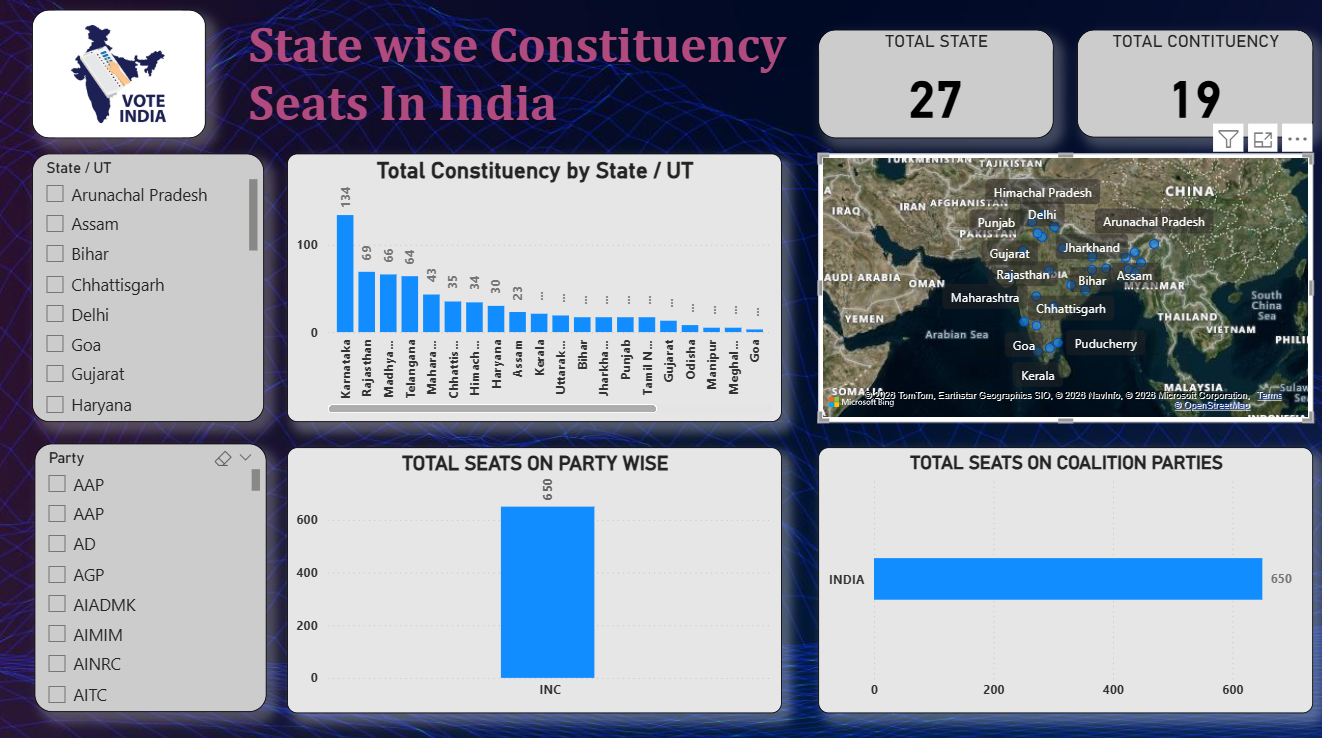

The page's visual inventory and layout, read from the dashboard file:
{"tool":"powerbi","page":{"name":"Page 1","canvas":[1280,720],"ordinal":0},"visuals":[{"type":"card","title":"TOTAL STATE","fields":{"Values":["Count(Data.State / UT)"]},"box":[792.6,32.6,226.8,105],"z":0},{"type":"card","title":"TOTAL CONTITUENCY","fields":{"Values":["Count(Data.Total Constituency)"]},"box":[1042.4,32.6,228,103.8],"z":1000},{"type":"columnChart","title":"Total Constituency by State / UT","fields":{"Category":["Data.State / UT"],"Y":["Sum(Data.Total Constituency)"]},"box":[279.9,152.3,477.5,259.3],"z":2000},{"type":"map","fields":{"Category":["Data.State / UT"]},"box":[793.1,152.3,477.5,259.3],"z":3000},{"type":"columnChart","title":"TOTAL SEATS ON PARTY WISE","fields":{"Y":["Sum(Data.Total Constituency)"],"Category":["Data.Party"]},"box":[279.9,435,477.5,256.6],"z":4000},{"type":"clusteredBarChart","title":"TOTAL SEATS ON COALITION PARTIES","fields":{"Category":["Data.NDA / INDI"],"Y":["Sum(Data.Total Constituency)"]},"box":[793.1,435,477.5,256.6],"z":5000},{"type":"slicer","fields":{"Values":["Data.State / UT"]},"box":[34.3,152.3,223.7,259.3],"z":6000},{"type":"slicer","fields":{"Values":["Data.Party"]},"box":[35.7,432.2,223.7,259.3],"z":7000},{"type":"textbox","box":[237.4,13.7,544.8,138.6],"z":8000},{"type":"image","box":[33.8,13.3,167.7,124.3],"z":9000}]}

Visuals, with their boxes in screenshot pixels (x1, y1, x2, y2), scaled from the page's 1280x720 canvas onto the 1322x738 screenshot:
"TOTAL STATE" card: <box>819,33,1053,141</box>
"TOTAL CONTITUENCY" card: <box>1077,33,1312,140</box>
"Total Constituency by State / UT" columnChart: <box>289,156,782,422</box>
map - Data.State / UT: <box>819,156,1312,422</box>
"TOTAL SEATS ON PARTY WISE" columnChart: <box>289,446,782,709</box>
"TOTAL SEATS ON COALITION PARTIES" clusteredBarChart: <box>819,446,1312,709</box>
slicer - Data.State / UT: <box>35,156,266,422</box>
slicer - Data.Party: <box>37,443,268,709</box>
textbox: <box>245,14,808,156</box>
image: <box>35,14,208,141</box>
